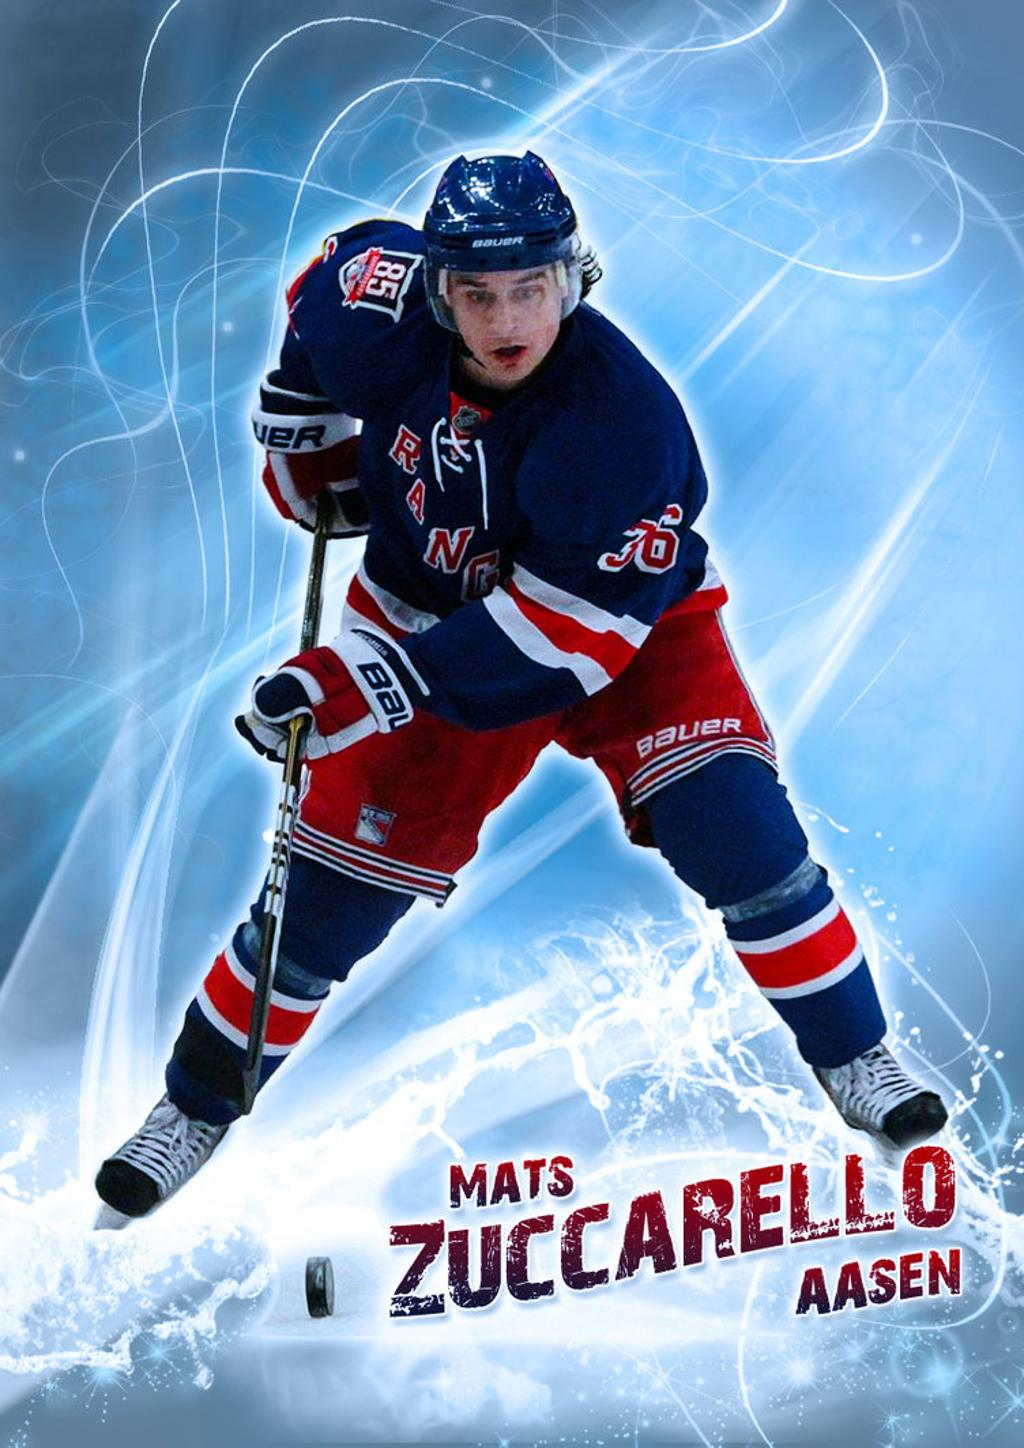face: (444, 252, 560, 385)
